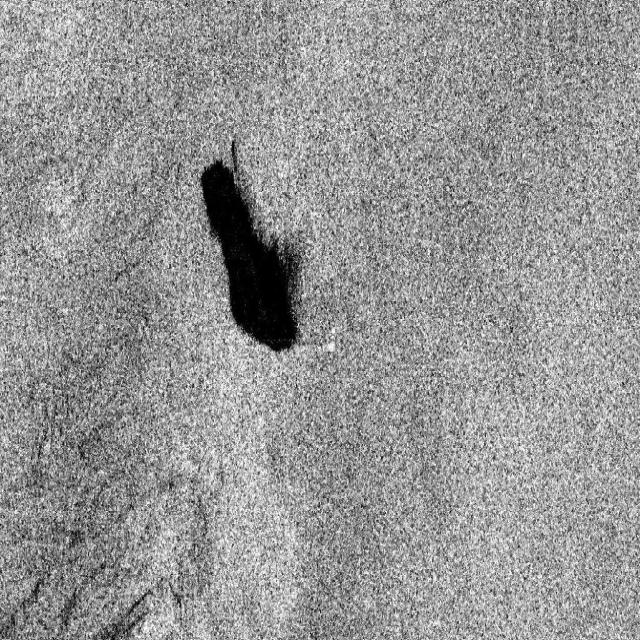oil-spill: (190, 143, 310, 360)
